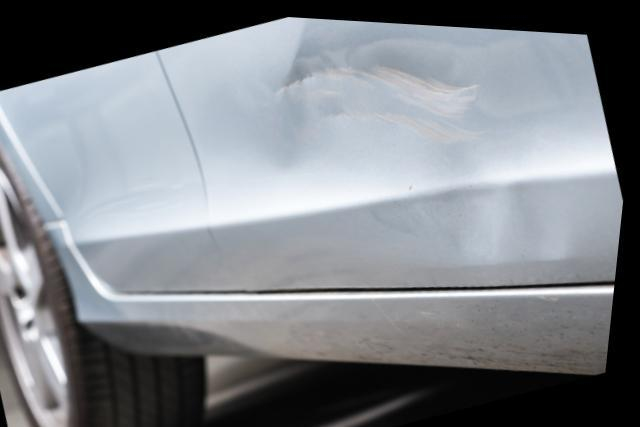dent: (196, 15, 569, 255)
